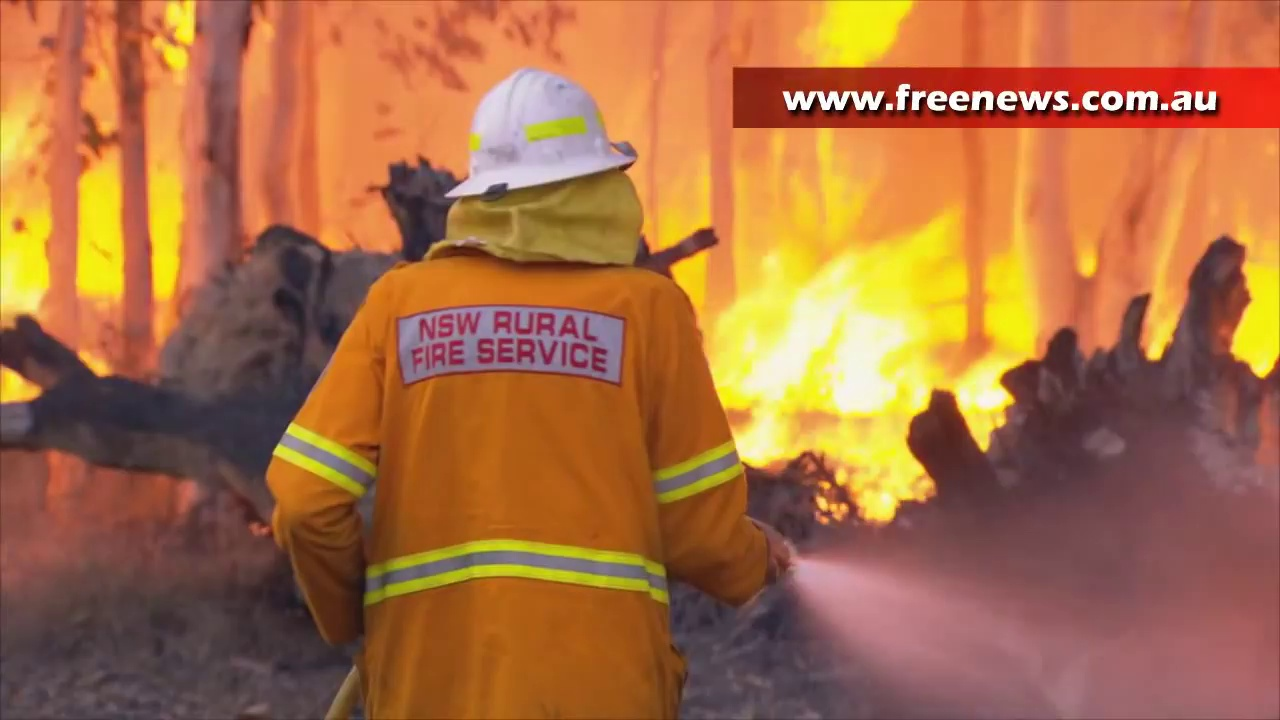fire: (722, 207, 1022, 435)
